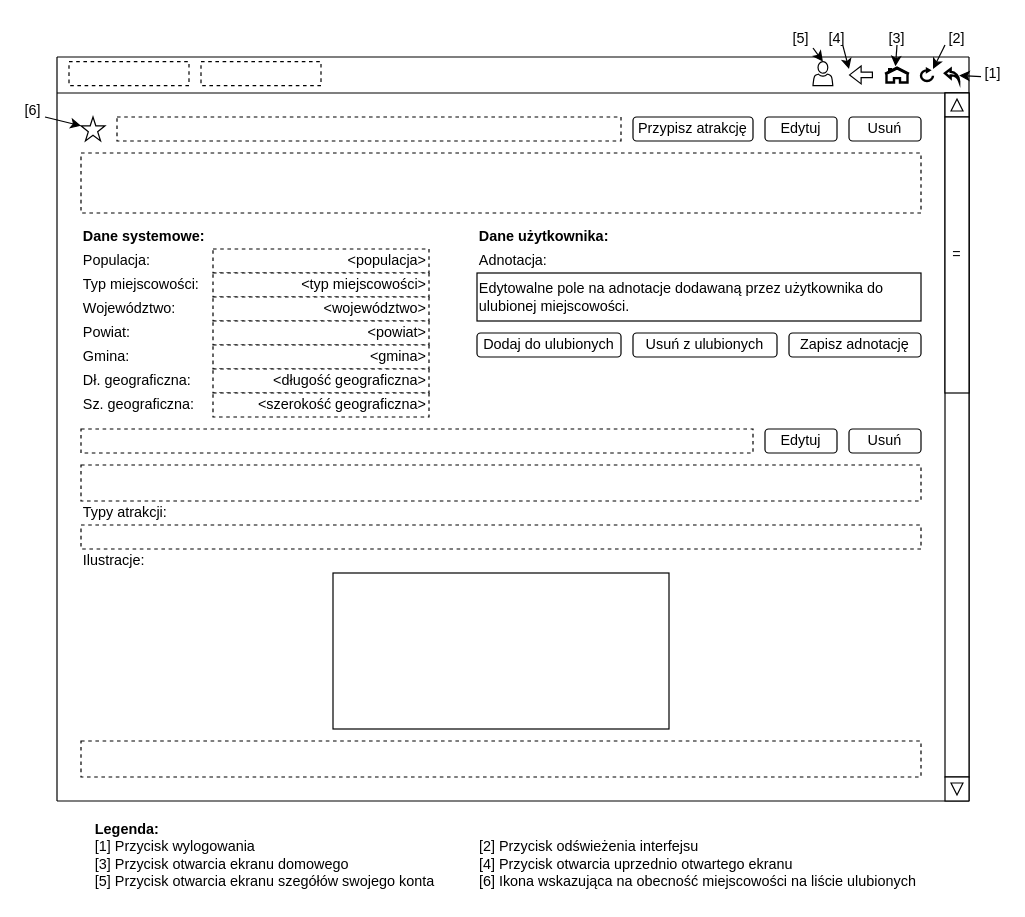
The diagram is 1025 pixels wide and 917 high, and some of its shapes have lost their labels. The shapes that lost their labels are listed below. From the top down, each one's centre as x and y in pixels, then its label:
(x=128, y=73): login
(x=260, y=73): rola
(x=368, y=128): <Nazwa miejscowości>
(x=500, y=182): opis miejscowości
(x=416, y=440): <nazwa atrakcji 1 z n> , <adres atrakcji 1 z n w tej miejscowości>
(x=500, y=482): opis atrakcji 1 z n
(x=500, y=536): wymienione po przecinku typy atrackji 1 z n
(x=500, y=650): Ilustracja 1 z k atrakcji 1 z n
(x=500, y=758): opis ilustracji 1 z k atrakcji 1 z n
